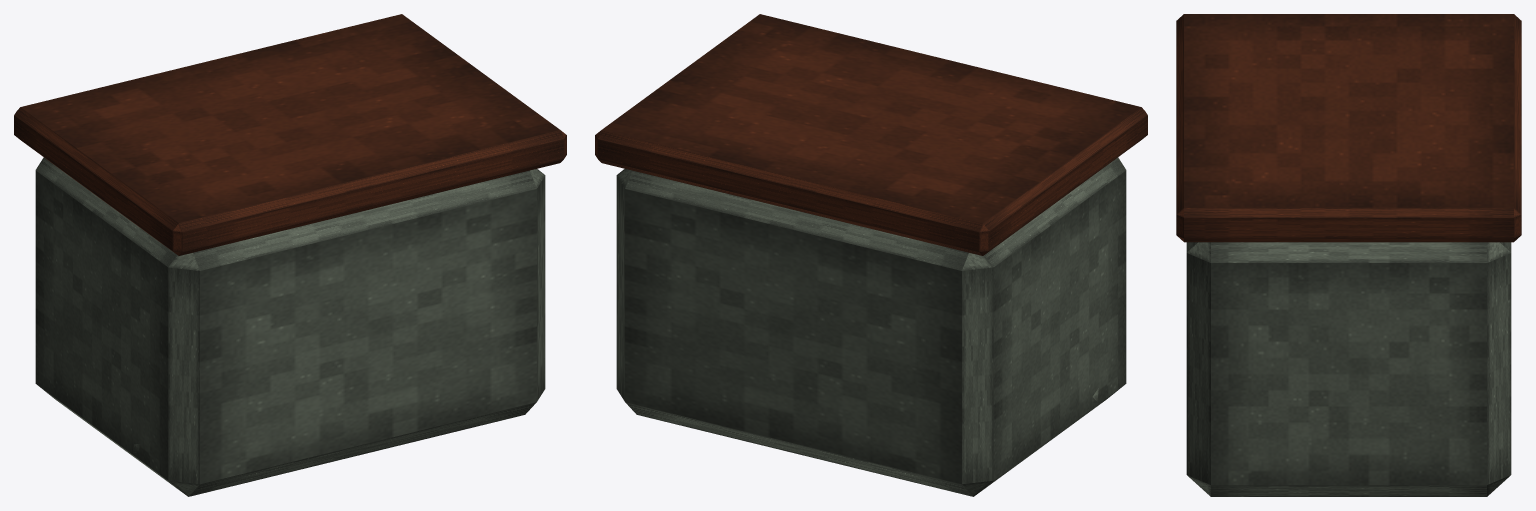
File: THStage_FindSupport_11.fbx
3 renders of one model, left to right at view 1: azimuth 30°, elevation 25°; view 2: azimuth 150°, elevation 25°; view 3: azimuth 270°, elevation 25°, orthographic. The views are drawn at different scales.
Parts seen in each view (by area): view 1: THStage_FindSupport_11.009; view 2: THStage_FindSupport_11.009; view 3: THStage_FindSupport_11.009.
Part boxes in pixels (x1,y1,x2,y2): THStage_FindSupport_11.009: [14, 14, 566, 496]; THStage_FindSupport_11.009: [595, 14, 1147, 496]; THStage_FindSupport_11.009: [1176, 14, 1521, 496].
Size of the model in its own units: 0.35 by 0.245 by 0.255.
Materials: 1 (1 with a texture image).
